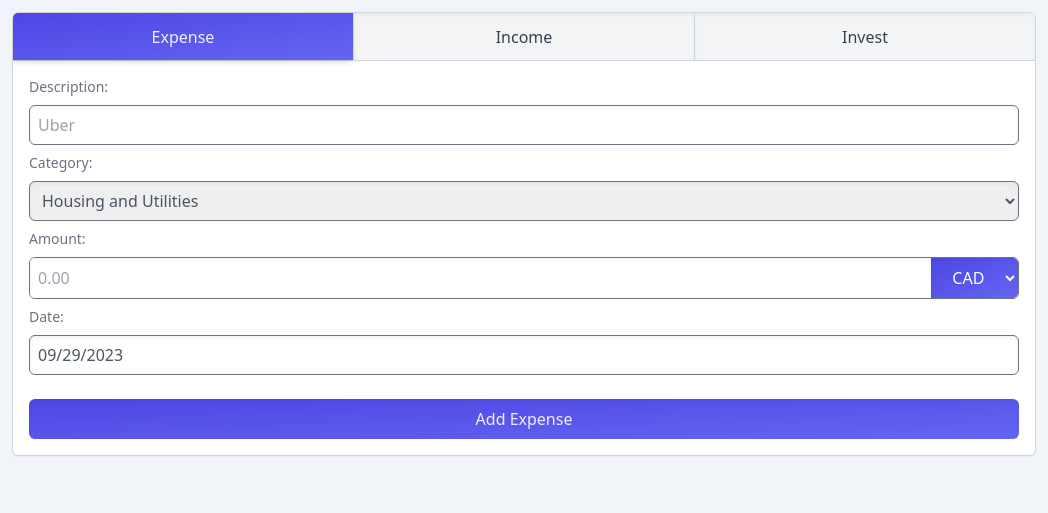
CreateTransactionForm › Handles valid inputs › Displays appropriate error messages when form is invalid
Click the button "Add Expense" at (524, 419), box [29, 399, 1019, 439]
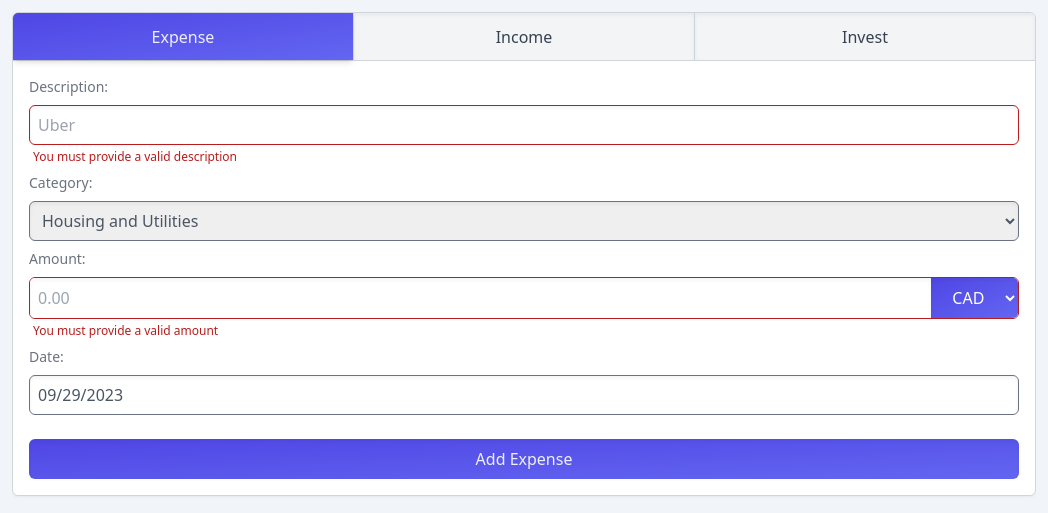
Expected: the text "You must provide a valid description" is shown, [33, 148, 237, 165]
Expected: the text "You must provide a valid amount" is shown, [33, 322, 218, 339]
